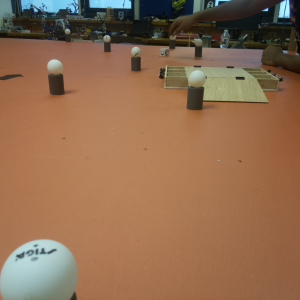obstacle: (45, 59, 65, 96), (187, 71, 206, 109), (131, 46, 141, 70), (195, 38, 205, 60), (102, 35, 112, 54), (63, 29, 71, 41)
side: (249, 65, 283, 95), (158, 64, 181, 89)
slope: (203, 77, 268, 109)
